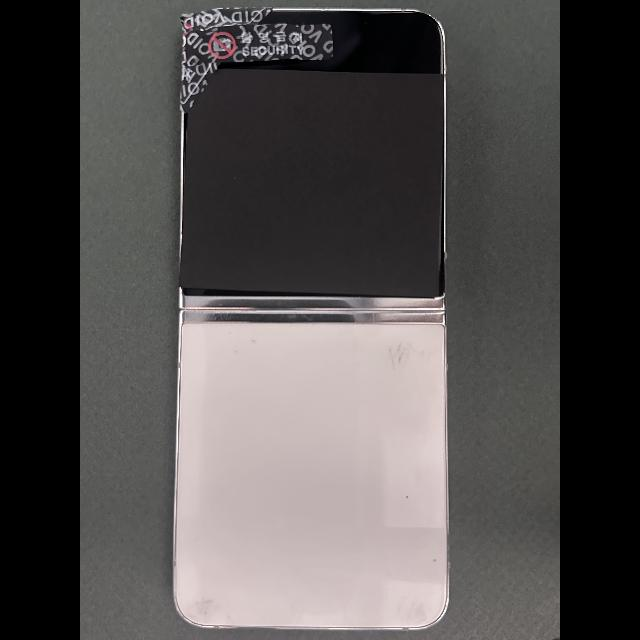phone: (172, 8, 450, 631)
sticker: (179, 7, 274, 114), (186, 23, 334, 67)
